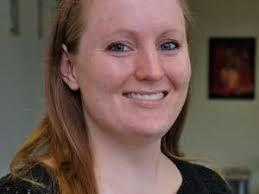normalEye: (98, 28, 183, 63)
normalMouth: (111, 82, 173, 107)
